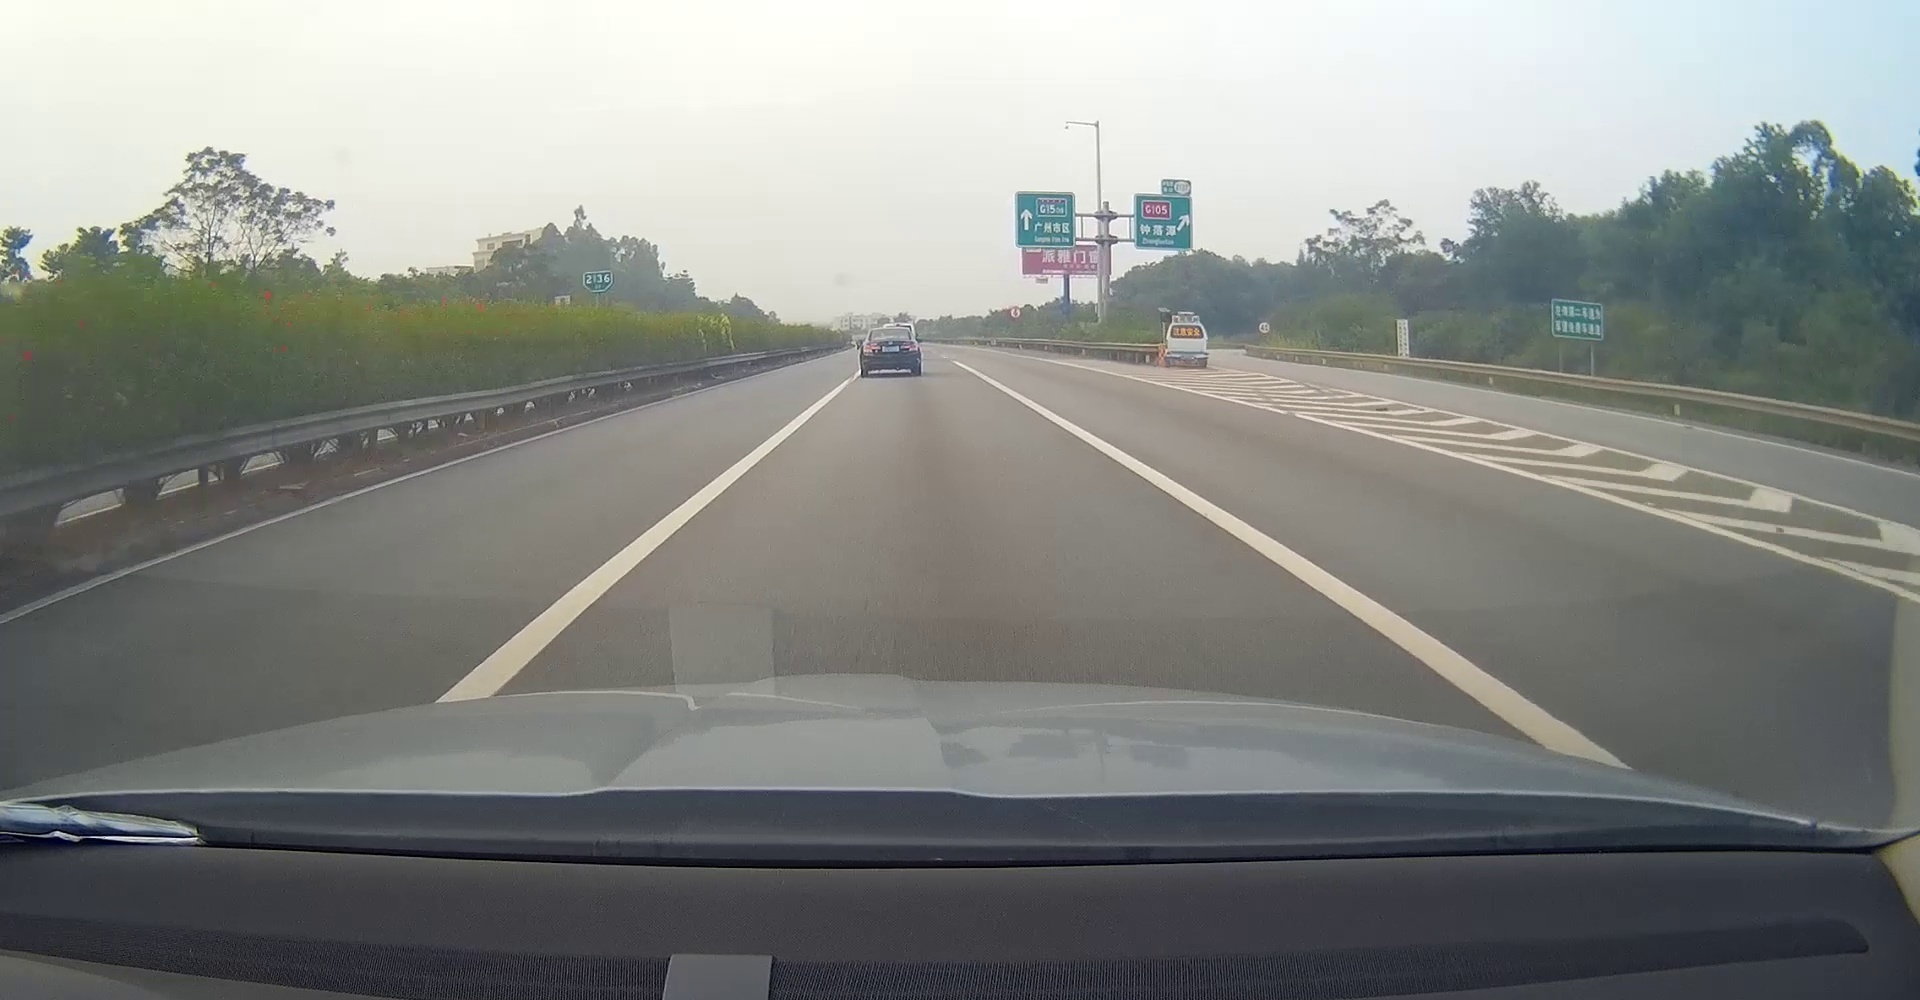L_light: (862, 343, 881, 355)
R_light: (902, 341, 919, 354)
T_light: (884, 327, 897, 330)
day-no: (858, 326, 922, 377)
